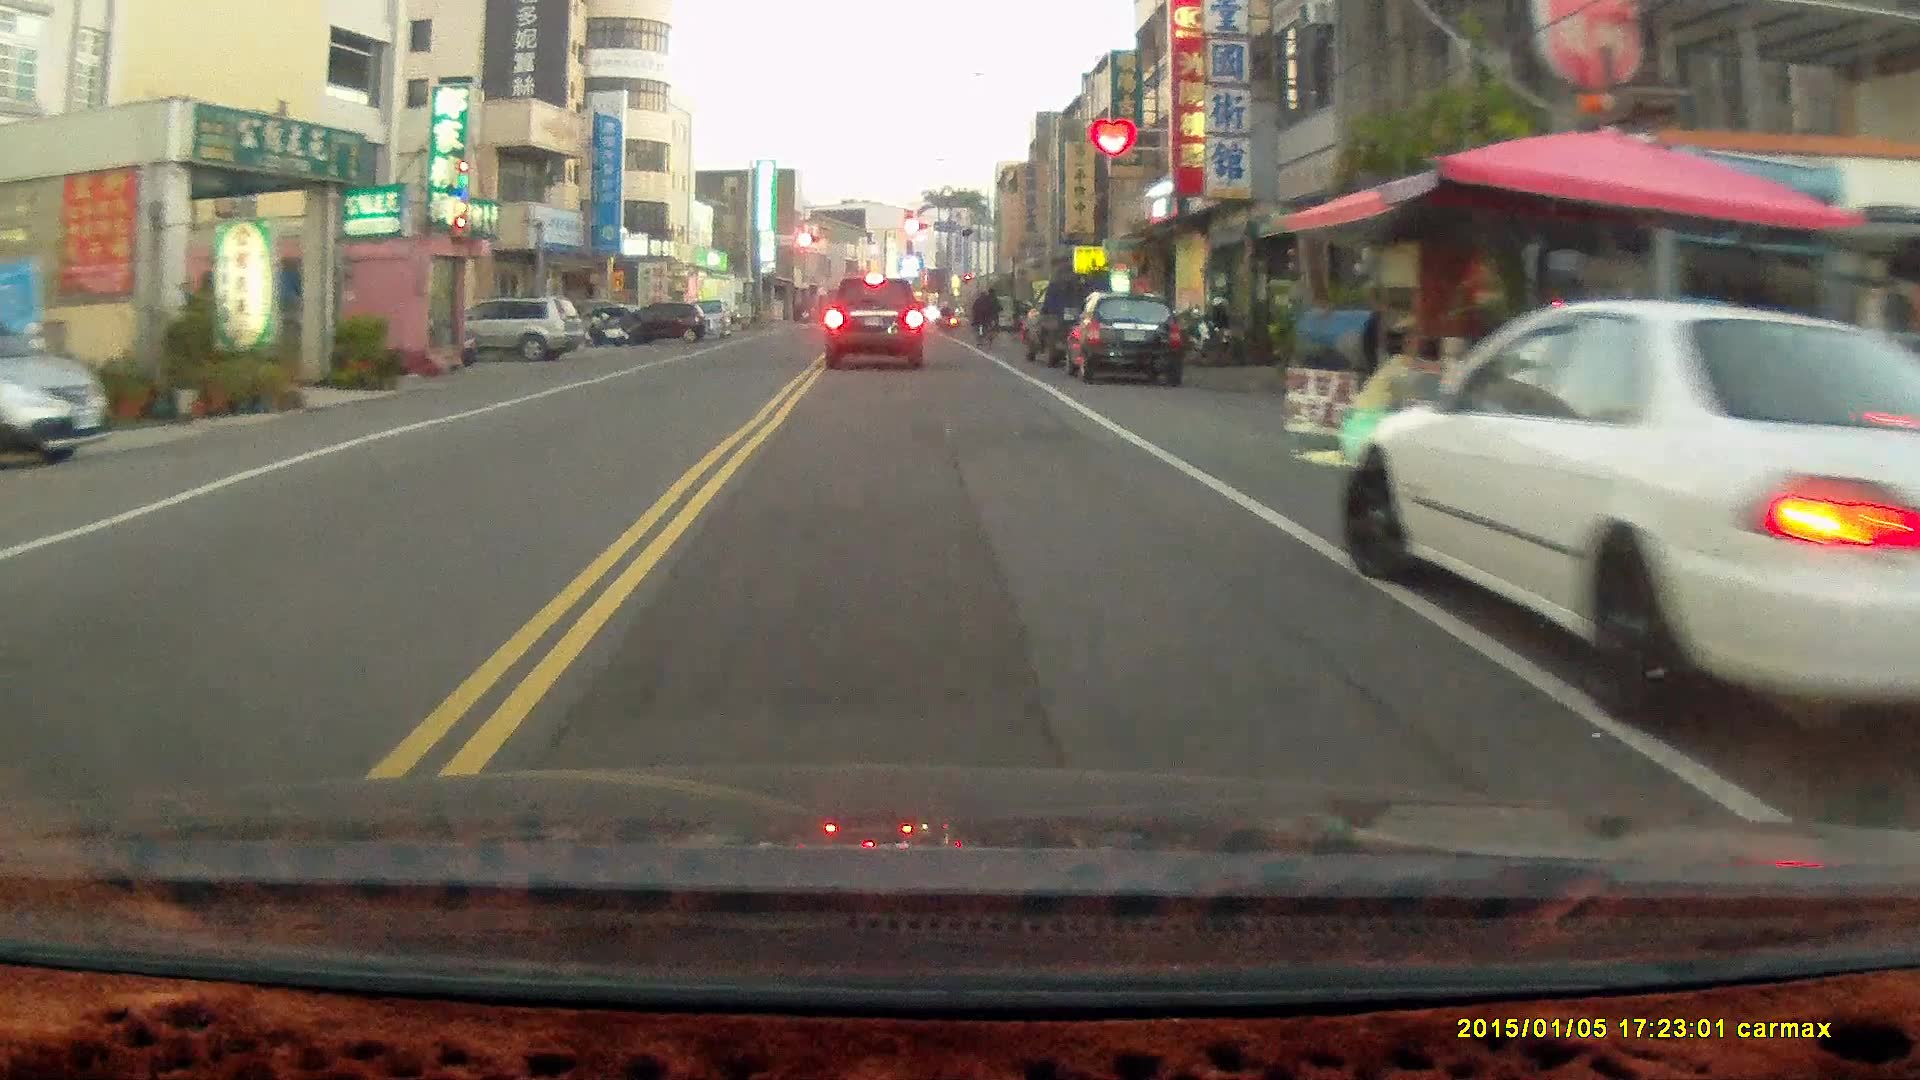rider: (973, 284, 1003, 347)
vehicle: (1338, 295, 1920, 734), (1, 324, 110, 468), (1066, 293, 1193, 390), (822, 275, 930, 370), (429, 297, 585, 361), (604, 297, 704, 344)
